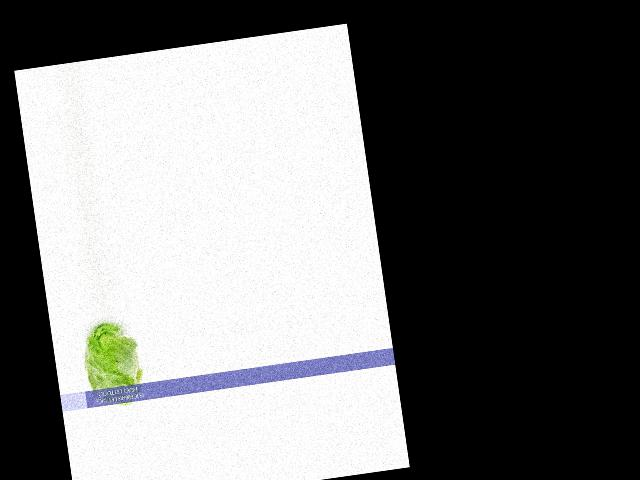lettuce: (80, 315, 146, 410)
